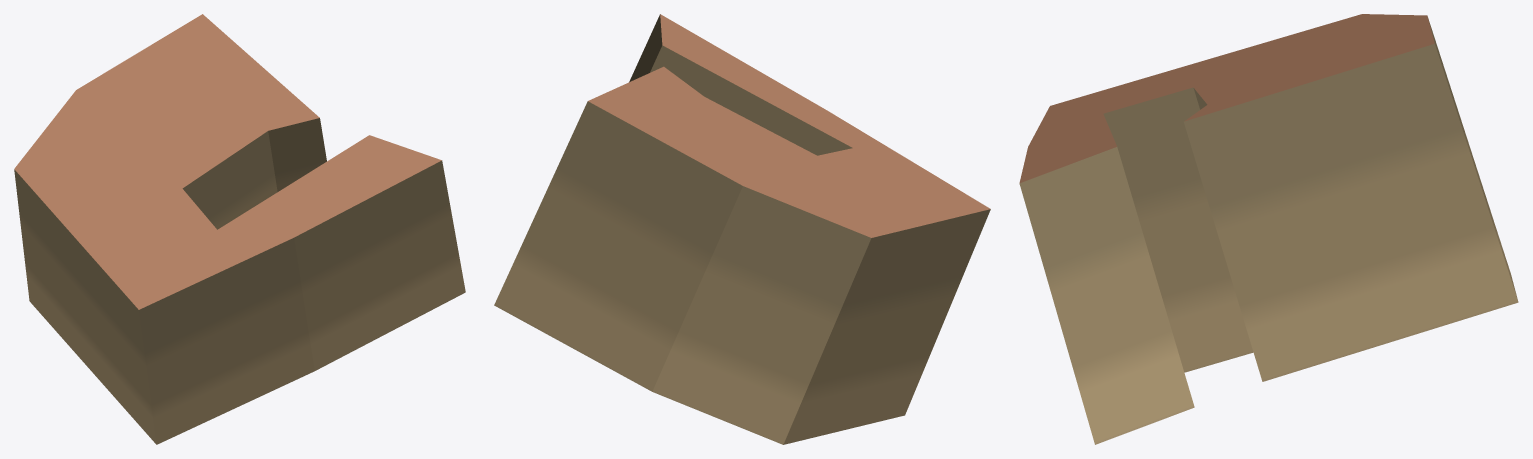
Rendered from 064f_Senegal.glb.
3 views of the same model, side by side, from view 1: azimuth 30°, elevation 25°; view 2: azimuth 150°, elevation 25°; view 3: azimuth 270°, elevation 25° (orthographic). The views are drawn at different scales.
Parts seen in each view (by area): view 1: part_0; view 2: part_0; view 3: part_0.
Part boxes in pixels (x1,y1,x2,y2): part_0: (14,14,465,444); part_0: (494,14,990,444); part_0: (1019,14,1518,444).
Bounding box in the file's own units: 0.4126 × 0.3451 × 0.3642.
Materials: 1 (1 with a texture image).
